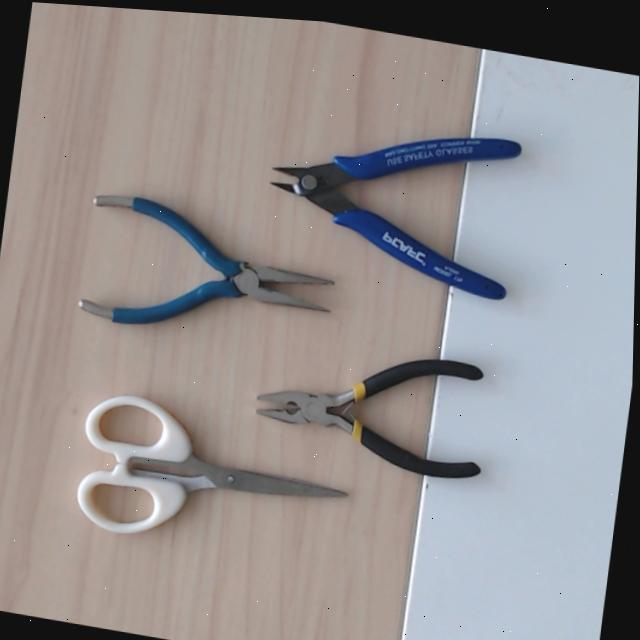Gunting: (58, 358, 348, 540)
Tang-Jepit-Biru: (77, 190, 343, 348)
Tang-Jepit-Hitam: (254, 356, 483, 478)
Tang-Potong-Biru: (261, 113, 522, 299)
